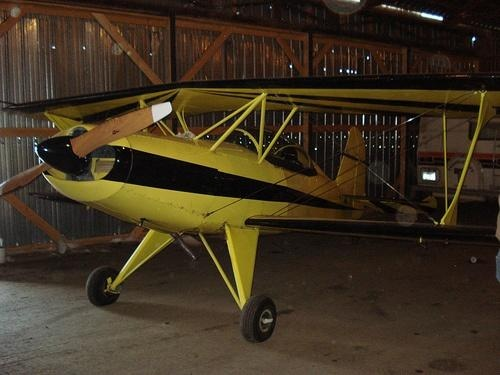aeroplane: (1, 78, 498, 344)
